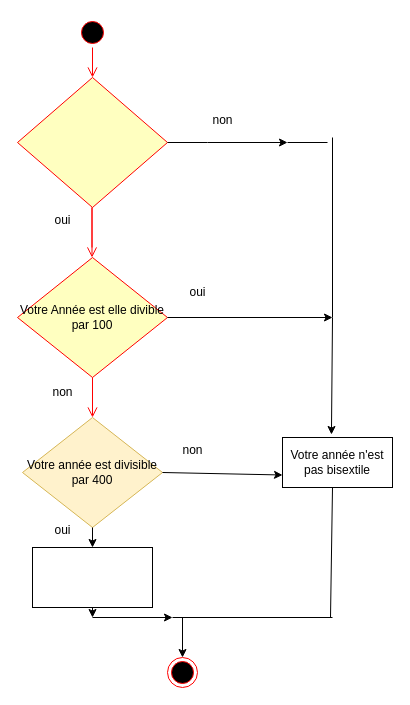
The diagram is 410 pixels wide and 705 high, and some of its shapes have lost their labels. The box of each missing label's shape, as (x1, y1, x2, y2) in pixels:
Votre année est bissextile: (32, 546, 152, 608)
Votre année est elle divisible par 4: (16, 76, 168, 208)
